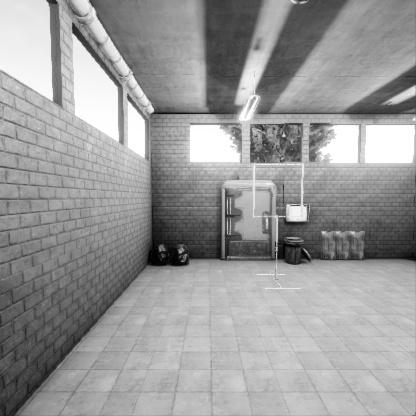gate: (253, 200, 307, 254)
